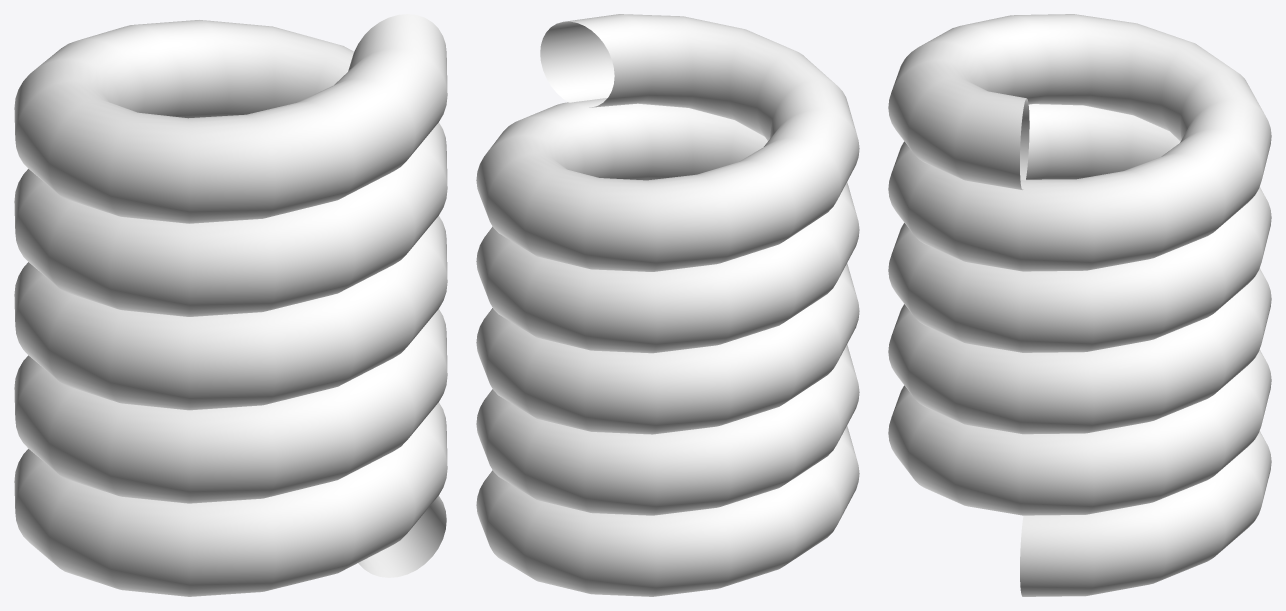
File: spring.obj
The picture shows the model from 3 angles, left to right: view 1: azimuth 30°, elevation 25°; view 2: azimuth 150°, elevation 25°; view 3: azimuth 270°, elevation 25°; orthographic projection. The views are drawn at different scales.
Parts seen in each view (by area): view 1: 円; view 2: 円; view 3: 円.
Part boxes in pixels (x1,y1,x2,y2): 円: (14, 14, 447, 596); 円: (476, 14, 859, 596); 円: (888, 14, 1271, 596).
Bounding box in the file's own units: 1.67 × 2.36 × 1.67.
Materials: 1 (1 with a texture image).
